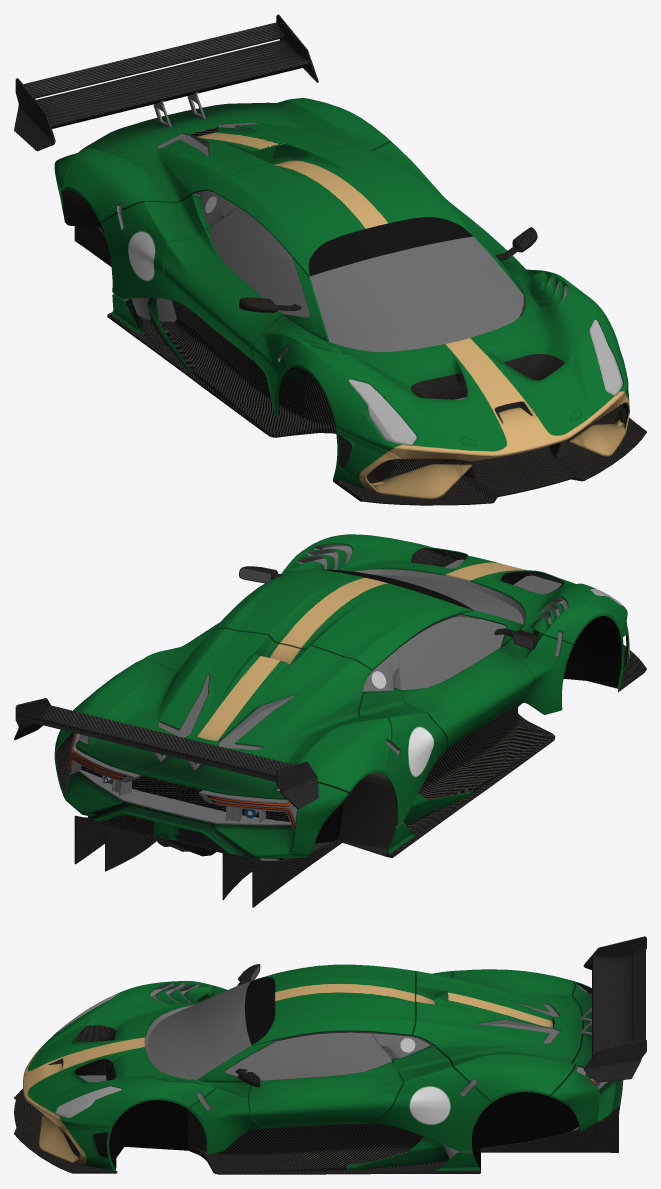
The model's file is CAR 4.fbx.
The picture shows the model from 3 angles, top to bottom: view 1: azimuth 30°, elevation 25°; view 2: azimuth 150°, elevation 25°; view 3: azimuth 270°, elevation 25°; orthographic projection. The views are drawn at different scales.
Visible parts, largest first — view 1: BODY, GLASS; view 2: BODY; view 3: BODY, GLASS.
Part boxes in pixels (x1=…): BODY: x1=14, y1=14, x2=646, y2=505; GLASS: x1=348, y1=319, x2=622, y2=445; BODY: x1=14, y1=534, x2=646, y2=907; BODY: x1=14, y1=936, x2=646, y2=1174; GLASS: x1=55, y1=992, x2=121, y2=1117.
Size of the model in its own units: 277 by 146 by 638.
4 materials, 3 textured.
